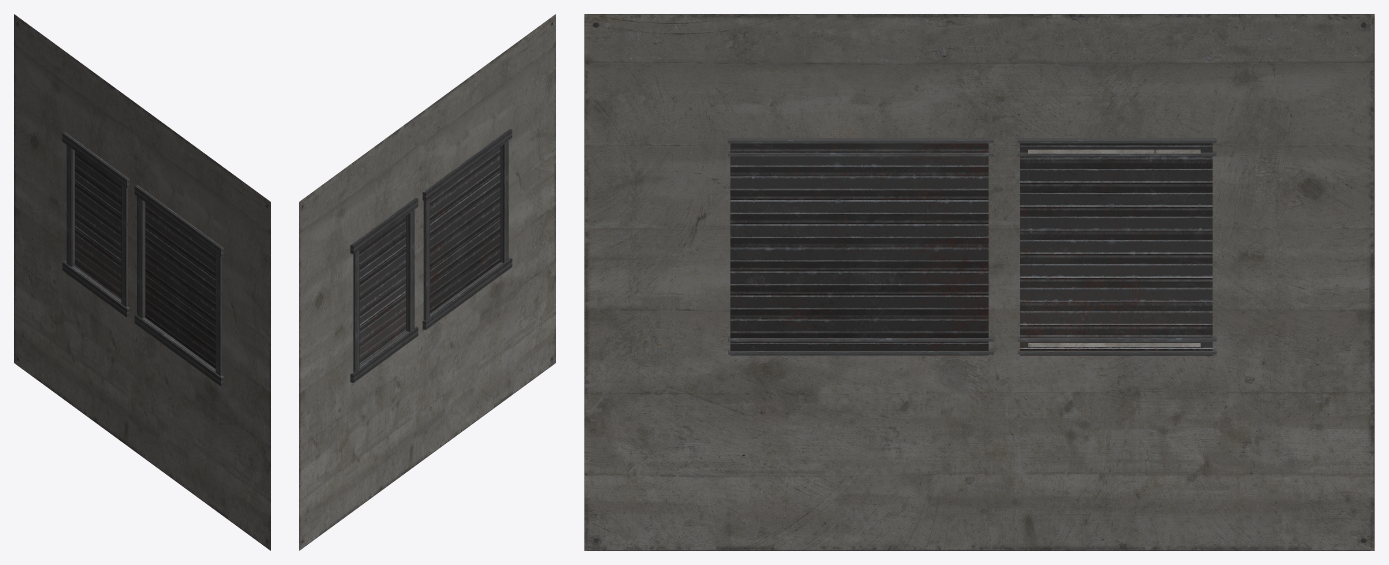
File: CP_Windows_B_4x3m_13.fbx
The picture shows the model from 3 angles, left to right: view 1: azimuth 30°, elevation 25°; view 2: azimuth 150°, elevation 25°; view 3: azimuth 270°, elevation 25°; orthographic projection. The views are drawn at different scales.
Parts seen in each view (by area): view 1: CP_Windows_B_4x3m_13; view 2: CP_Windows_B_4x3m_13; view 3: CP_Windows_B_4x3m_13.
Boxes of the visible parts, x1,y1,x2,y2 form: CP_Windows_B_4x3m_13: [14, 14, 270, 550]; CP_Windows_B_4x3m_13: [299, 14, 555, 550]; CP_Windows_B_4x3m_13: [584, 14, 1374, 550].
Bounding box in the file's own units: 9.54 × 300 × 400.
